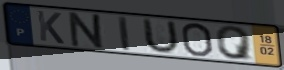I: (116, 15, 133, 53)
K: (35, 9, 66, 46)
N: (67, 11, 107, 51)
O: (179, 22, 215, 58)
Q: (214, 25, 255, 62)
U: (142, 17, 181, 55)
